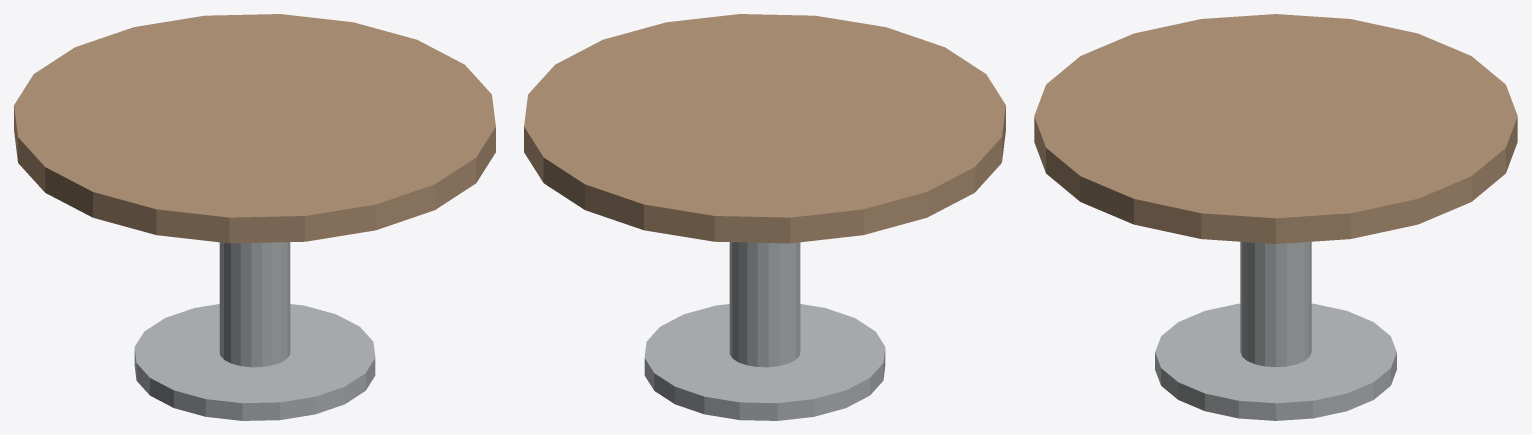
File: 16_round_dining_table.glb
3 renders of one model, left to right at view 1: azimuth 30°, elevation 25°; view 2: azimuth 150°, elevation 25°; view 3: azimuth 270°, elevation 25°, orthographic.
Visible parts, largest first — view 1: top, foot, pedestal; view 2: top, foot, pedestal; view 3: top, foot, pedestal.
Part boxes in pixels (x1=…): top: x1=14, y1=14, x2=495, y2=243; foot: x1=134, y1=304, x2=375, y2=420; pedestal: x1=219, y1=242, x2=290, y2=367; top: x1=524, y1=14, x2=1005, y2=243; foot: x1=644, y1=304, x2=885, y2=420; pedestal: x1=729, y1=242, x2=800, y2=367; top: x1=1034, y1=14, x2=1517, y2=243; foot: x1=1155, y1=303, x2=1396, y2=420; pedestal: x1=1240, y1=241, x2=1311, y2=367.
Bounding box in the file's own units: 1.36 × 0.7875 × 1.36.
